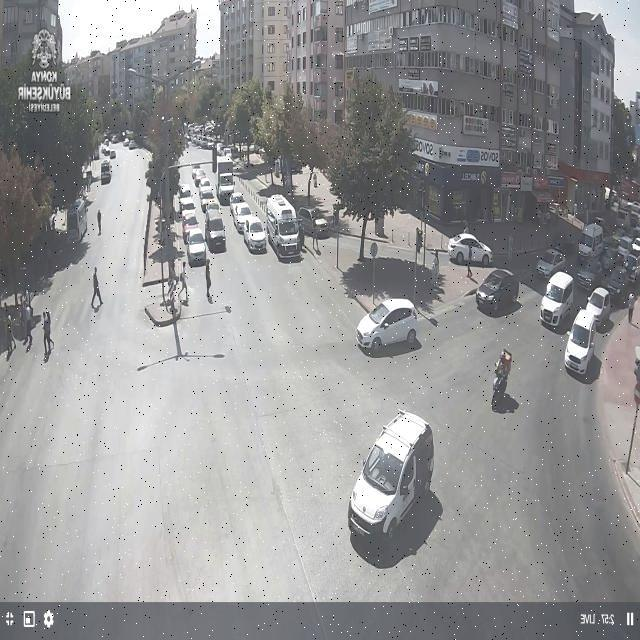Car: (348, 410, 434, 540), (476, 270, 518, 314), (448, 232, 492, 266), (582, 286, 612, 328), (296, 205, 330, 238), (575, 258, 606, 290), (578, 222, 604, 260), (204, 207, 227, 249), (242, 214, 266, 252), (536, 248, 566, 278), (185, 228, 208, 264), (229, 196, 252, 232), (606, 266, 630, 300), (179, 197, 198, 229), (182, 215, 201, 244), (616, 234, 636, 256), (200, 189, 218, 213), (599, 249, 618, 271), (622, 202, 640, 224), (622, 252, 639, 273), (229, 191, 245, 210), (100, 160, 112, 183), (192, 168, 206, 186), (178, 182, 191, 199), (109, 149, 116, 159)
Truck: (267, 192, 299, 262), (215, 154, 234, 200), (67, 199, 88, 240)
Van: (356, 297, 421, 353), (565, 309, 602, 372), (540, 271, 575, 327)
